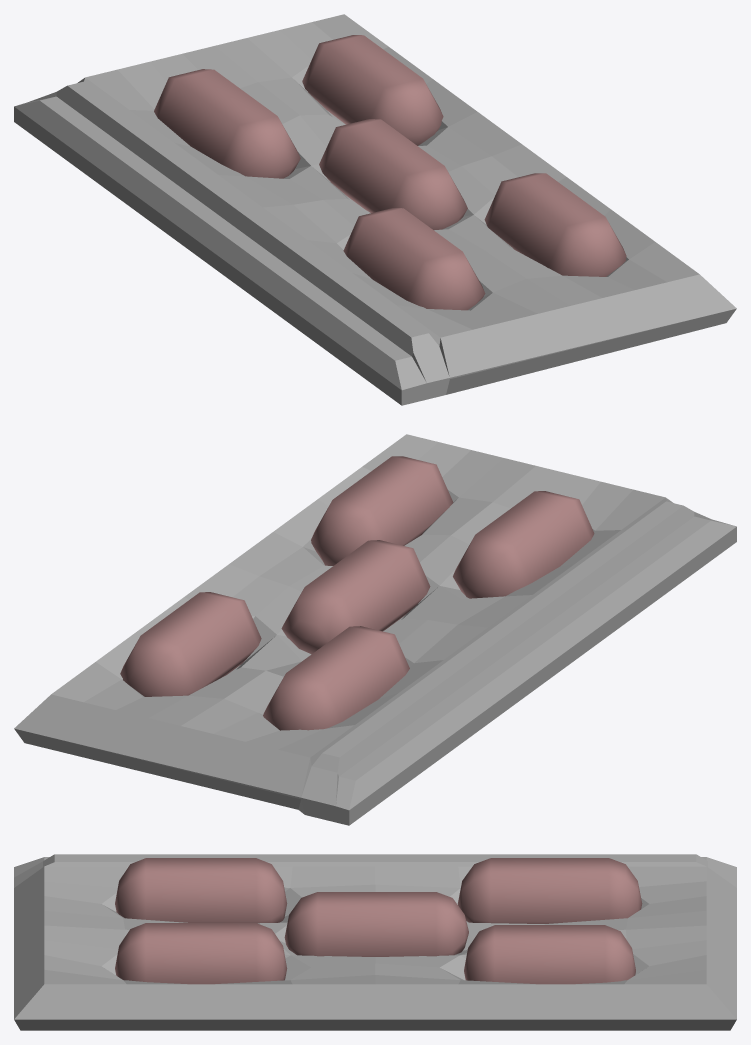
Rendered from Pastillas.fbx.
The picture shows the model from 3 angles, top to bottom: view 1: azimuth 30°, elevation 25°; view 2: azimuth 150°, elevation 25°; view 3: azimuth 270°, elevation 25°; orthographic projection. The views are drawn at different scales.
Parts seen in each view (by area): view 1: polySurface3, polySurface11, polySurface9, polySurface12, polySurface10, polySurface13; view 2: polySurface3, polySurface11, polySurface10, polySurface9, polySurface13, polySurface12; view 3: polySurface3, polySurface11, polySurface9, polySurface13, polySurface12, polySurface10.
Boxes of the visible parts, bbox=[...] form: polySurface3: bbox=[14, 14, 736, 405]; polySurface11: bbox=[319, 119, 467, 230]; polySurface9: bbox=[154, 69, 300, 178]; polySurface12: bbox=[484, 173, 626, 276]; polySurface10: bbox=[302, 35, 443, 145]; polySurface13: bbox=[343, 208, 485, 310]; polySurface3: bbox=[14, 434, 736, 825]; polySurface11: bbox=[281, 540, 430, 654]; polySurface10: bbox=[120, 592, 261, 696]; polySurface9: bbox=[263, 626, 409, 730]; polySurface13: bbox=[453, 491, 594, 598]; polySurface12: bbox=[311, 456, 453, 565]; polySurface3: bbox=[14, 854, 736, 1030]; polySurface11: bbox=[284, 892, 468, 956]; polySurface9: bbox=[457, 858, 642, 923]; polySurface13: bbox=[115, 858, 287, 923]; polySurface12: bbox=[115, 923, 287, 984]; polySurface10: bbox=[464, 925, 635, 984].
Size of the model in its own units: 42.73 by 8.57 by 85.63.
